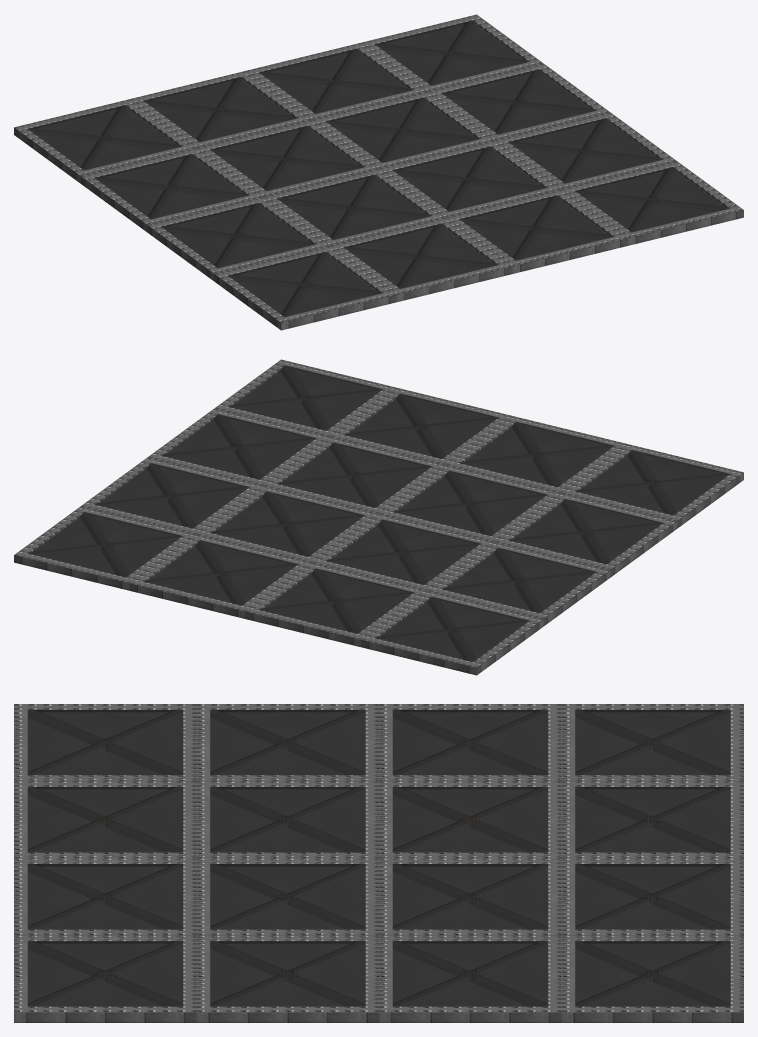
Rendered from UMOD_Prop-Square-4x4_.fbx.
The picture shows the model from 3 angles, top to bottom: view 1: azimuth 30°, elevation 25°; view 2: azimuth 150°, elevation 25°; view 3: azimuth 270°, elevation 25°; orthographic projection. The views are drawn at different scales.
Visible parts, largest first — view 1: pCube6, pCube11, pCube7, pCube13, pCube8, pCube14, pCube18, pCube9, pCube12, pCube16, pCube20, pCube21 (+4 smaller); view 2: pCube18, pCube20, pCube19, pCube21, pCube14, pCube8, pCube6, pCube10, pCube11, pCube13, pCube15, pCube17 (+4 smaller); view 3: pCube12, pCube13, pCube17, pCube21, pCube6, pCube7, pCube10, pCube14, pCube15, pCube16, pCube8, pCube9 (+4 smaller).
Boxes of the visible parts, x1=… form: pCube6: x1=214, y1=246, x2=396, y2=330; pCube11: x1=446, y1=189, x2=628, y2=273; pCube7: x1=330, y1=217, x2=512, y2=301; pCube13: x1=562, y1=161, x2=743, y2=245; pCube8: x1=147, y1=197, x2=329, y2=280; pCube14: x1=80, y1=148, x2=262, y2=232; pCube18: x1=14, y1=99, x2=195, y2=183; pCube9: x1=264, y1=169, x2=445, y2=245; pCube12: x1=495, y1=112, x2=676, y2=189; pCube16: x1=312, y1=91, x2=494, y2=168; pCube20: x1=246, y1=43, x2=427, y2=119; pCube21: x1=361, y1=14, x2=542, y2=91; pCube18: x1=361, y1=591, x2=543, y2=675; pCube20: x1=129, y1=534, x2=311, y2=618; pCube19: x1=245, y1=562, x2=427, y2=646; pCube21: x1=14, y1=506, x2=195, y2=590; pCube14: x1=428, y1=542, x2=610, y2=625; pCube8: x1=495, y1=493, x2=677, y2=577; pCube6: x1=562, y1=444, x2=743, y2=528; pCube10: x1=263, y1=436, x2=445, y2=513; pCube11: x1=330, y1=388, x2=511, y2=464; pCube13: x1=215, y1=359, x2=396, y2=436; pCube15: x1=312, y1=514, x2=493, y2=590; pCube17: x1=81, y1=457, x2=262, y2=534; pCube12: x1=196, y1=935, x2=378, y2=1022; pCube13: x1=14, y1=935, x2=196, y2=1022; pCube17: x1=379, y1=935, x2=561, y2=1022; pCube21: x1=561, y1=935, x2=743, y2=1022; pCube6: x1=14, y1=704, x2=196, y2=781; pCube7: x1=14, y1=781, x2=196, y2=858; pCube10: x1=196, y1=858, x2=378, y2=935; pCube14: x1=379, y1=704, x2=561, y2=781; pCube15: x1=379, y1=781, x2=561, y2=858; pCube16: x1=379, y1=858, x2=561, y2=935; pCube8: x1=196, y1=704, x2=378, y2=781; pCube9: x1=196, y1=781, x2=378, y2=858.
Bounding box in the file's own units: 32 × 0.5 × 32.
Materials: 1 (1 with a texture image).
